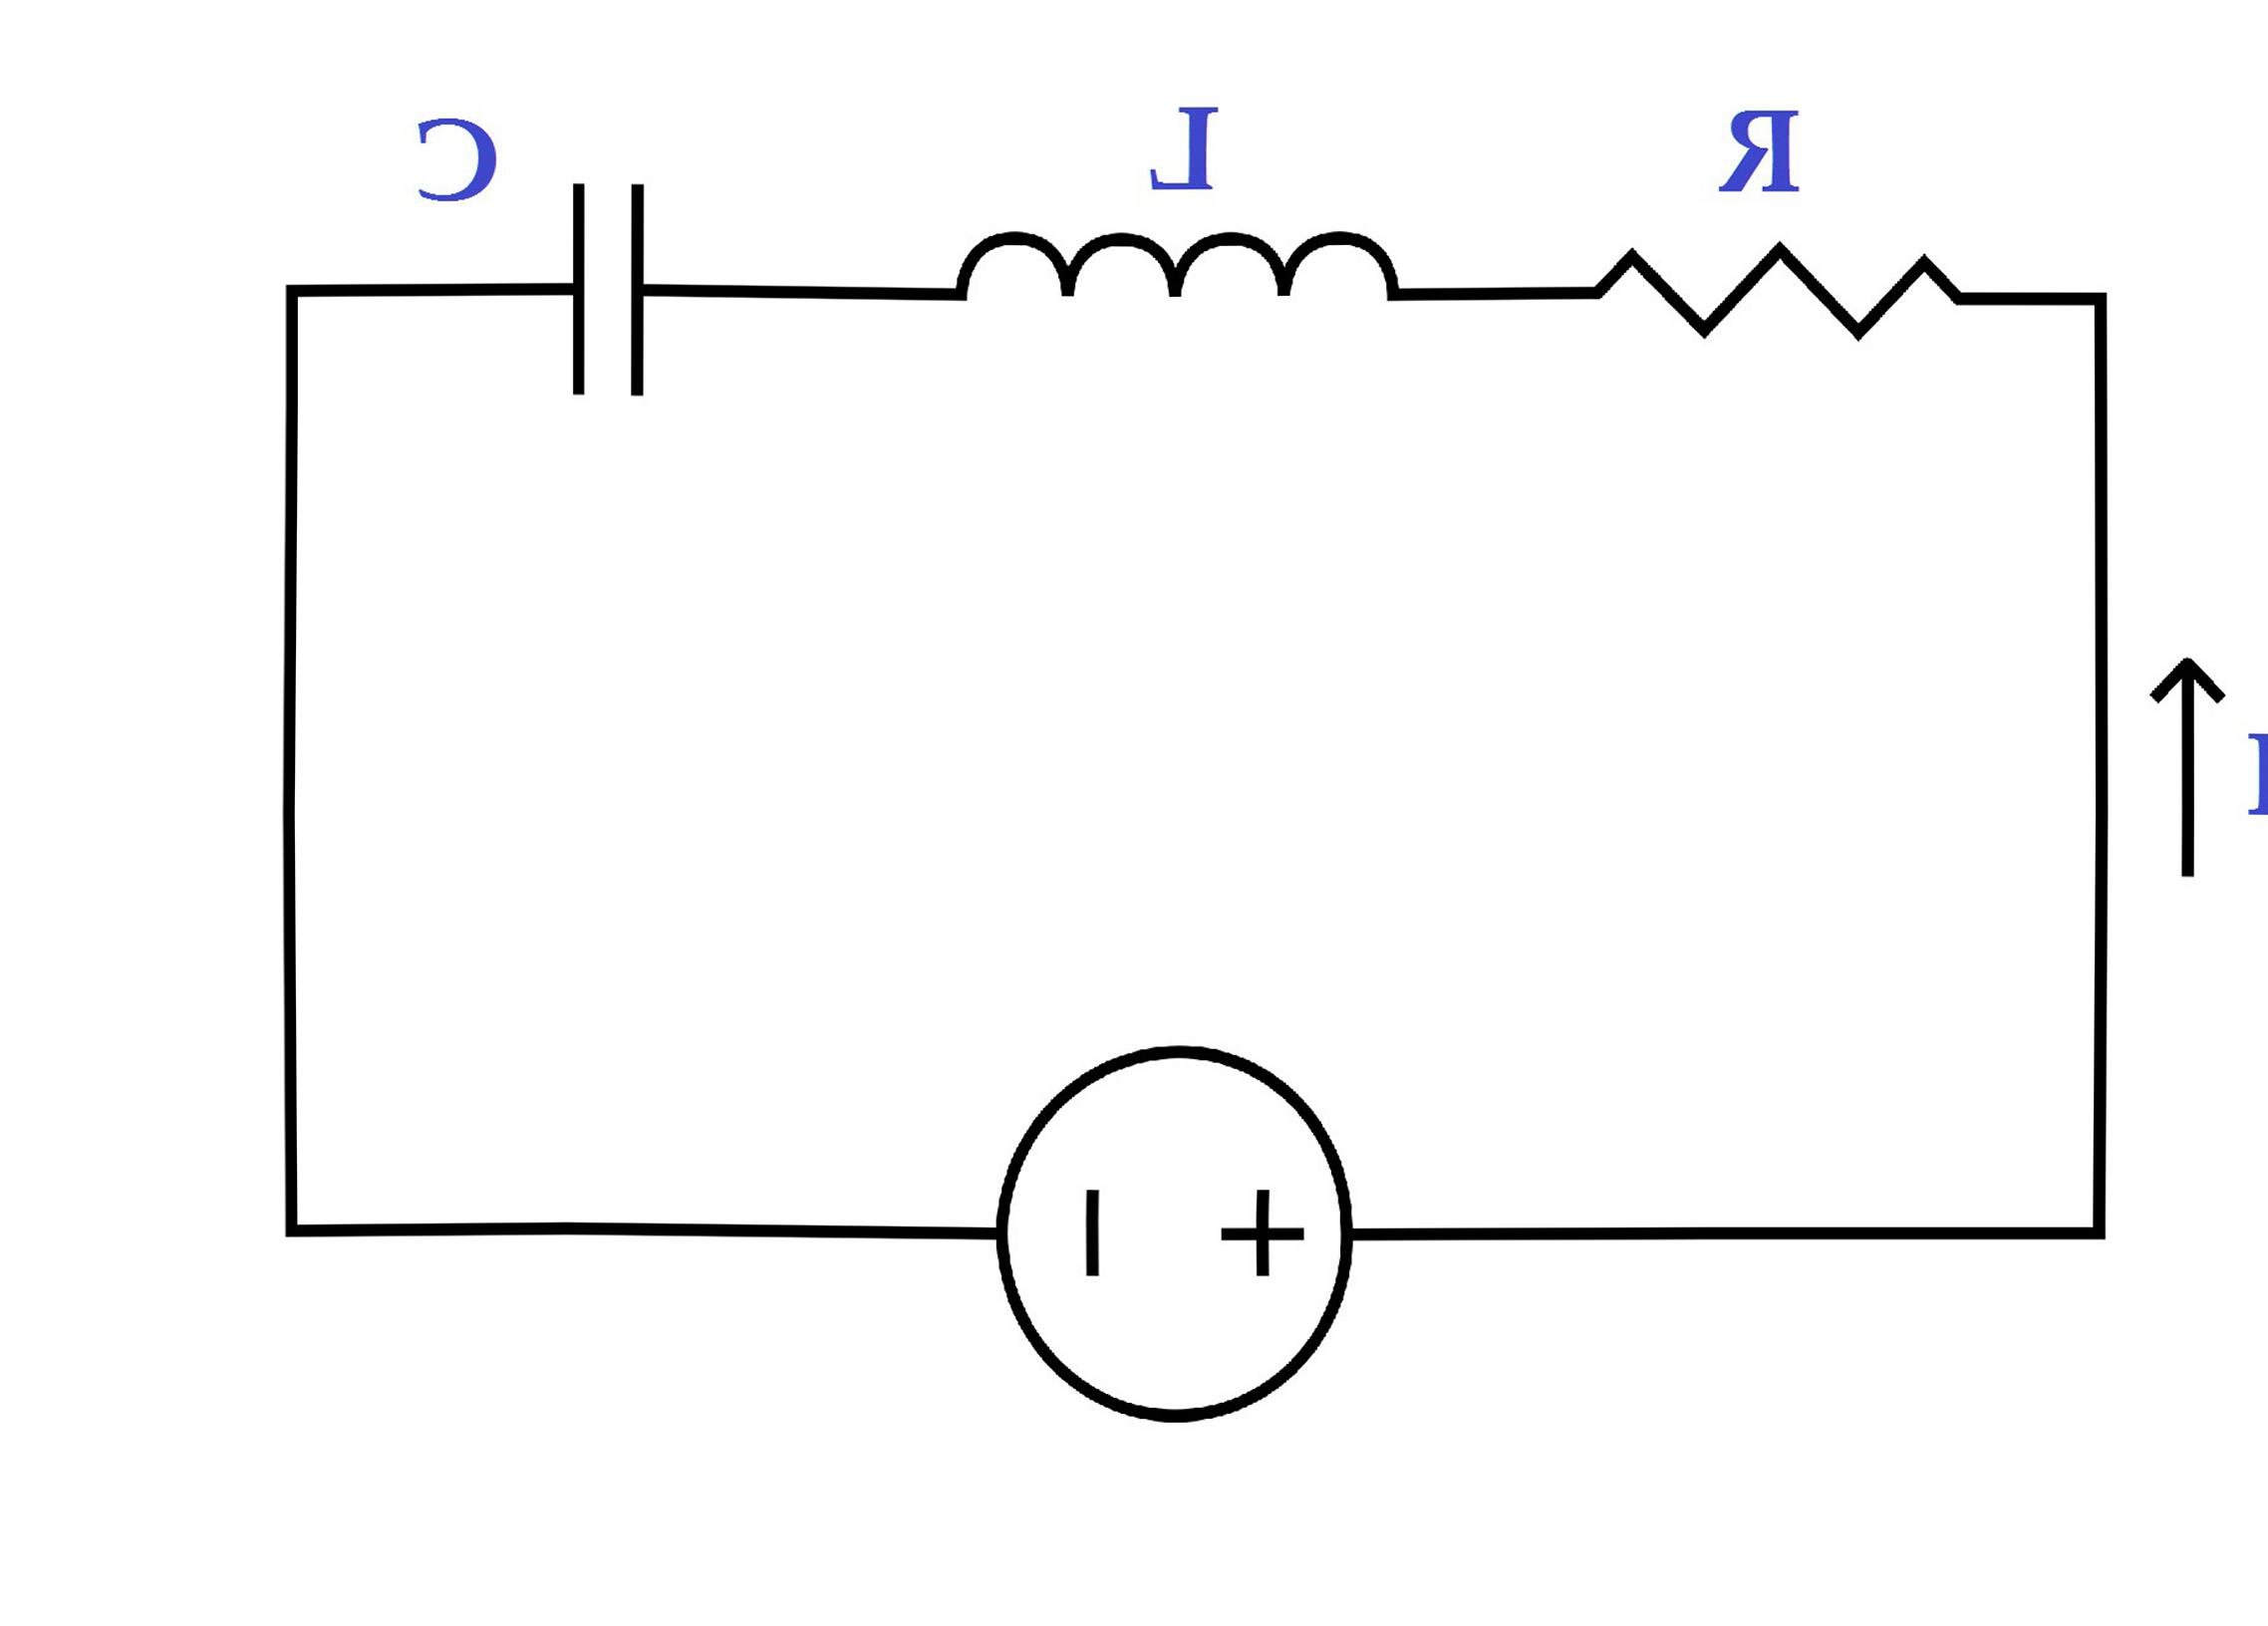Battery: (936, 998, 1399, 1505)
